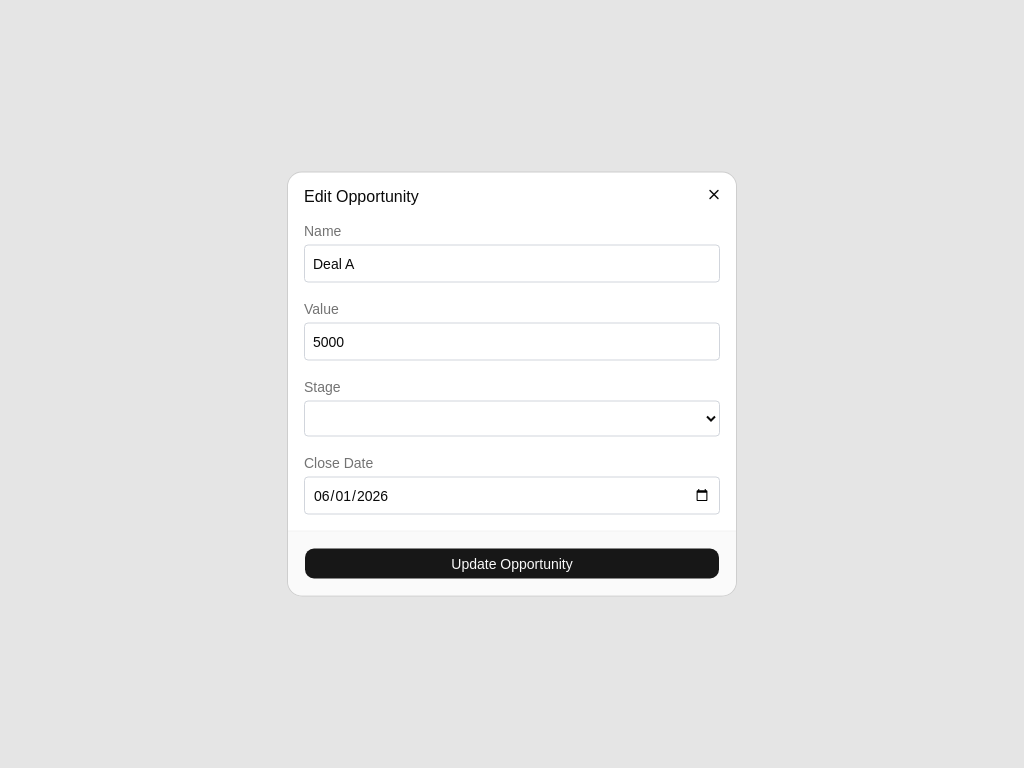
it: OppEditDialog › shows an error message when the save fails
Click the button "Update Opportunity" at x=512, y=564, box [304,548,720,580]
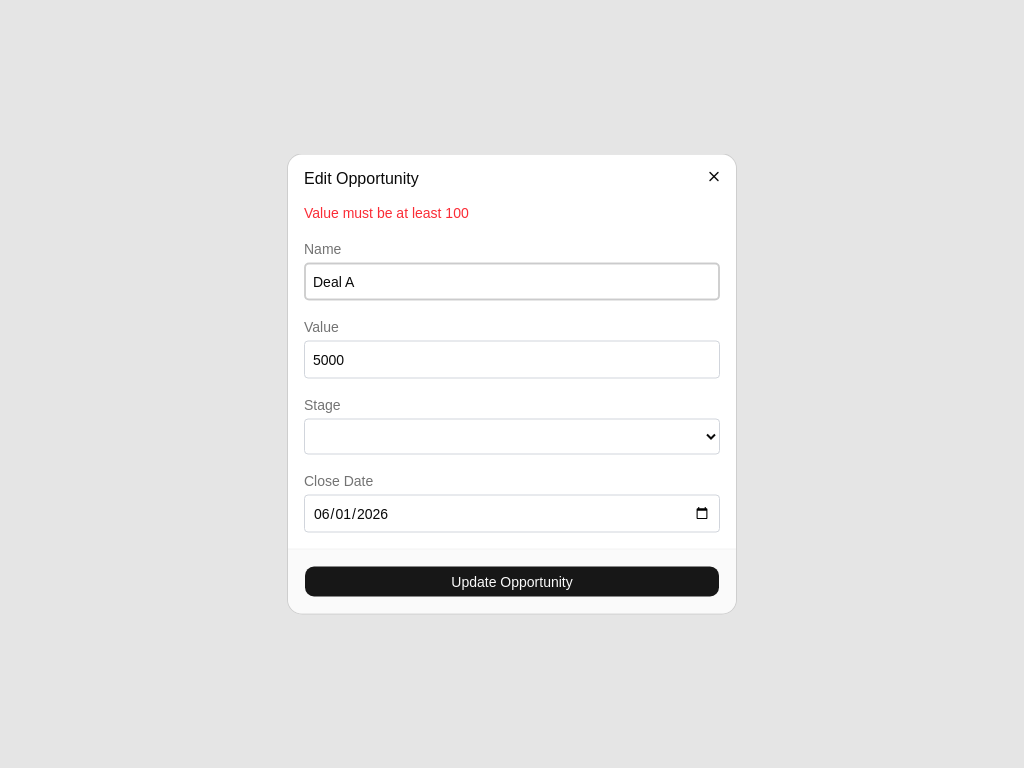
Result: the text "Value must be at least 100" is shown at [304,204,469,220]
